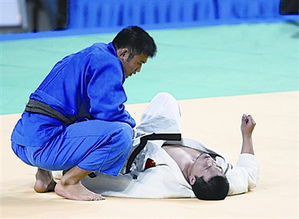fall: (51, 89, 281, 200)
